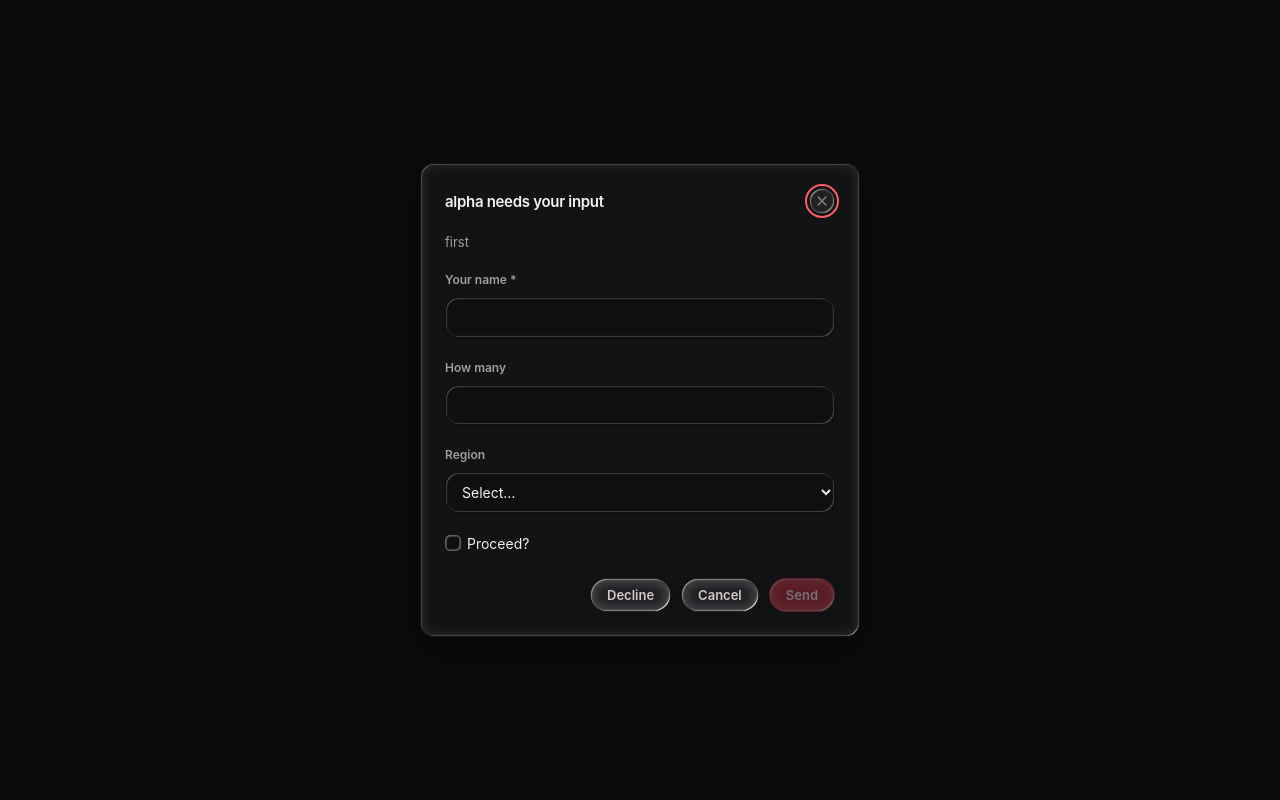
McpElicitModal › queues a second server's request instead of stacking dialogs
Expected: the number of dialogs is 1, [420,163,860,637]
Expected: the text "first" is shown, [445,234,469,250]
Click the button "Decline". click: (631,595)
box: [590,578,671,612]
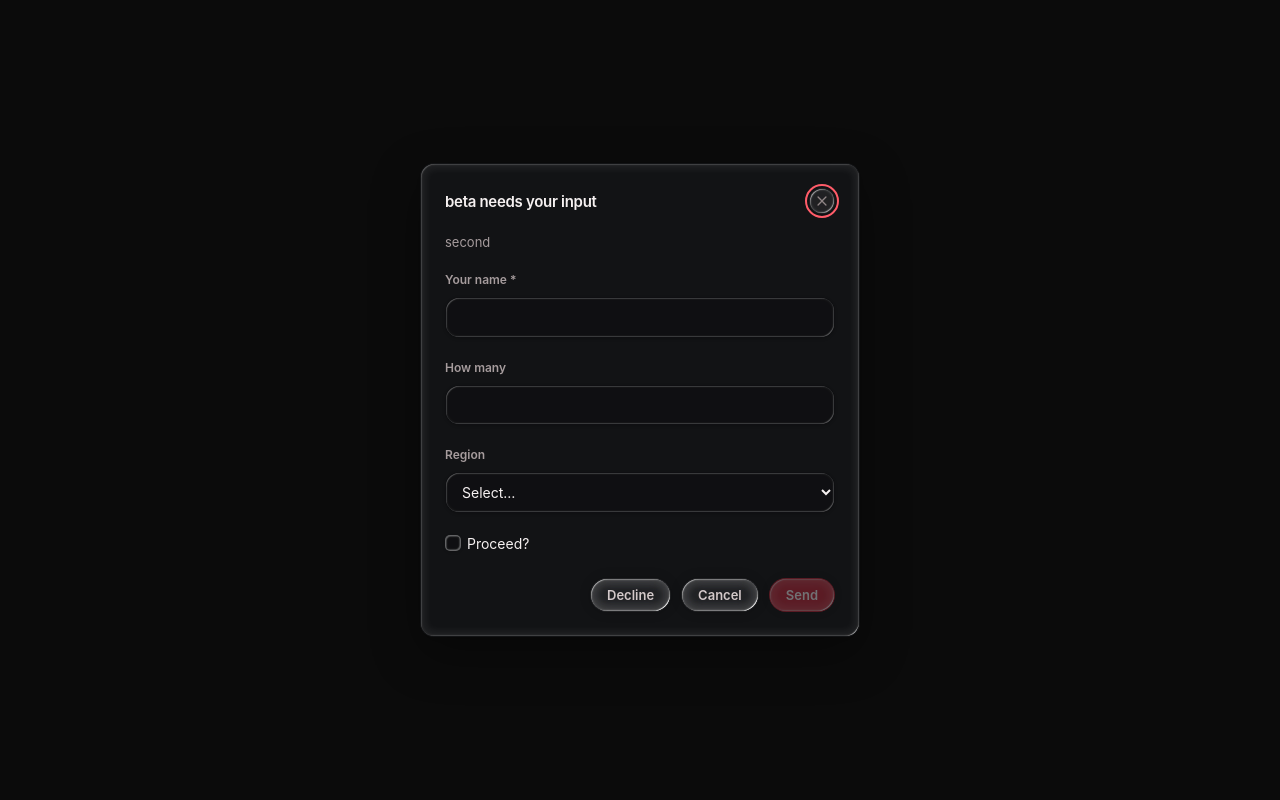
Expected: the number of dialogs is 1, [420,163,860,637]
Expected: the text "second" is shown, [445,234,490,250]
